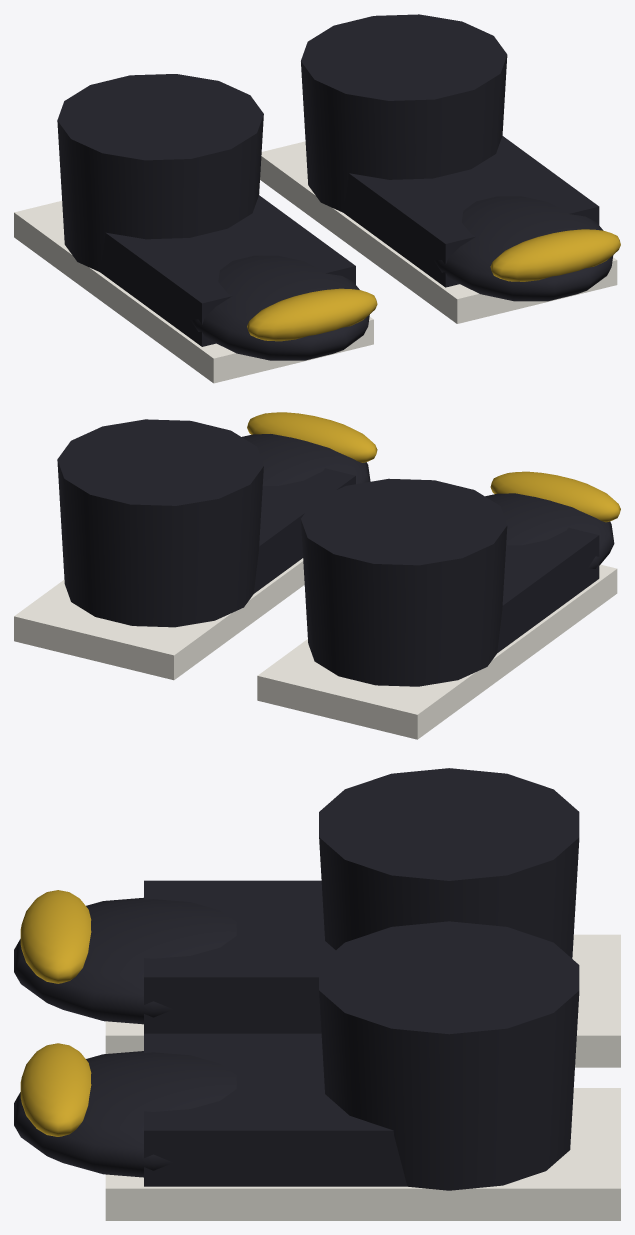
File: shoes_ancient_0.glb
3 views of the same model, one above another, from view 1: azimuth 30°, elevation 25°; view 2: azimuth 150°, elevation 25°; view 3: azimuth 270°, elevation 25° (orthographic). The views are drawn at different scales.
Size of the model in its own units: 0.3696 by 0.1248 by 0.3563.
